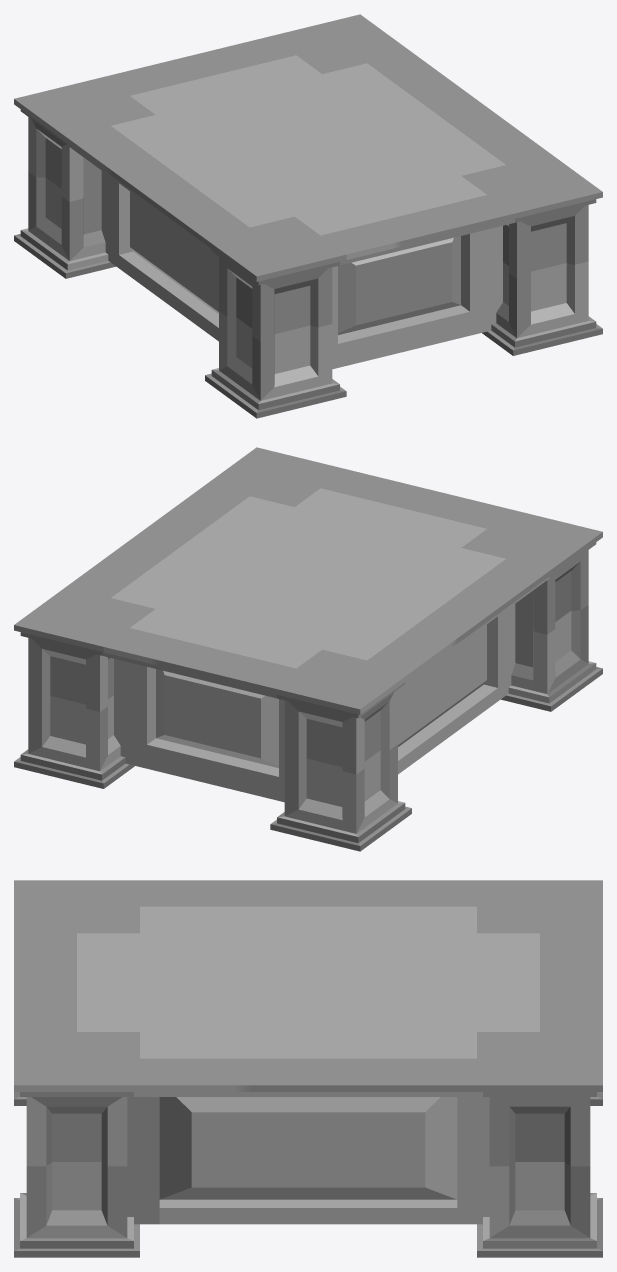
Rendered from castle_town_interior_stone_table.fbx.
The picture shows the model from 3 angles, top to bottom: view 1: azimuth 30°, elevation 25°; view 2: azimuth 150°, elevation 25°; view 3: azimuth 270°, elevation 25°; orthographic projection. The views are drawn at different scales.
Parts seen in each view (by area): view 1: stone table; view 2: stone table; view 3: stone table.
Part boxes in pixels (x1,y1,x2,y2): stone table: [14, 14, 602, 418]; stone table: [14, 447, 602, 851]; stone table: [14, 880, 602, 1257].
Bounding box in the file's own units: 2231 × 721 × 1838.
